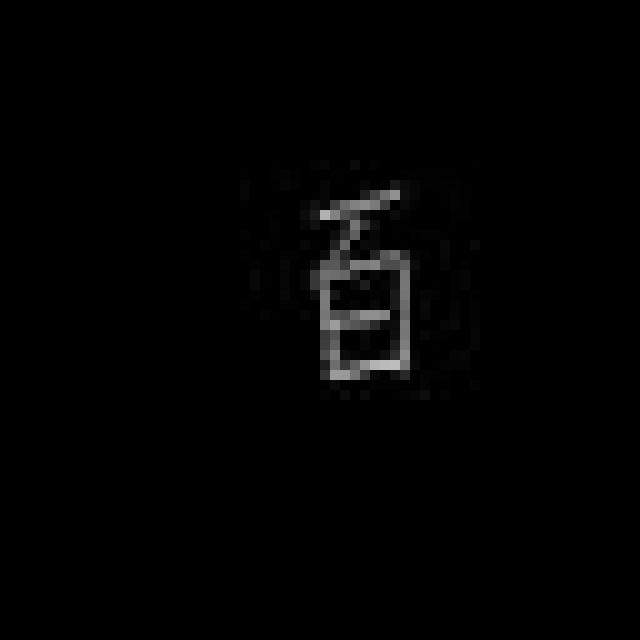100 -a hundred-: (300, 174, 426, 395)
